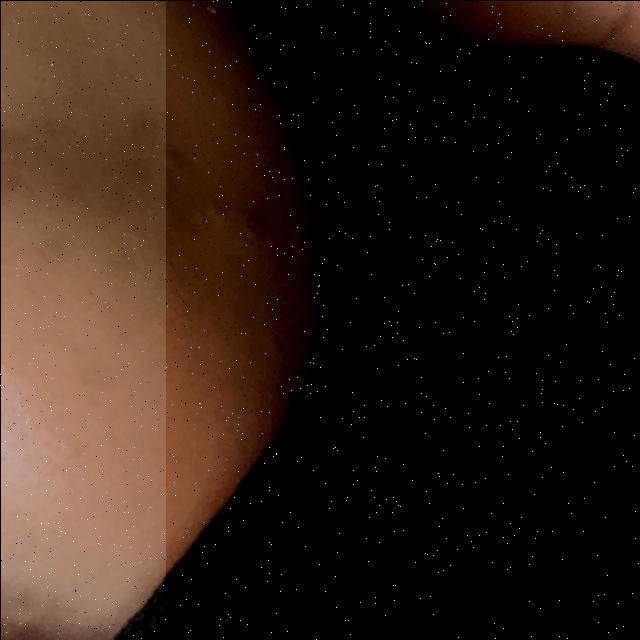mendengar: (165, 0, 640, 640)
